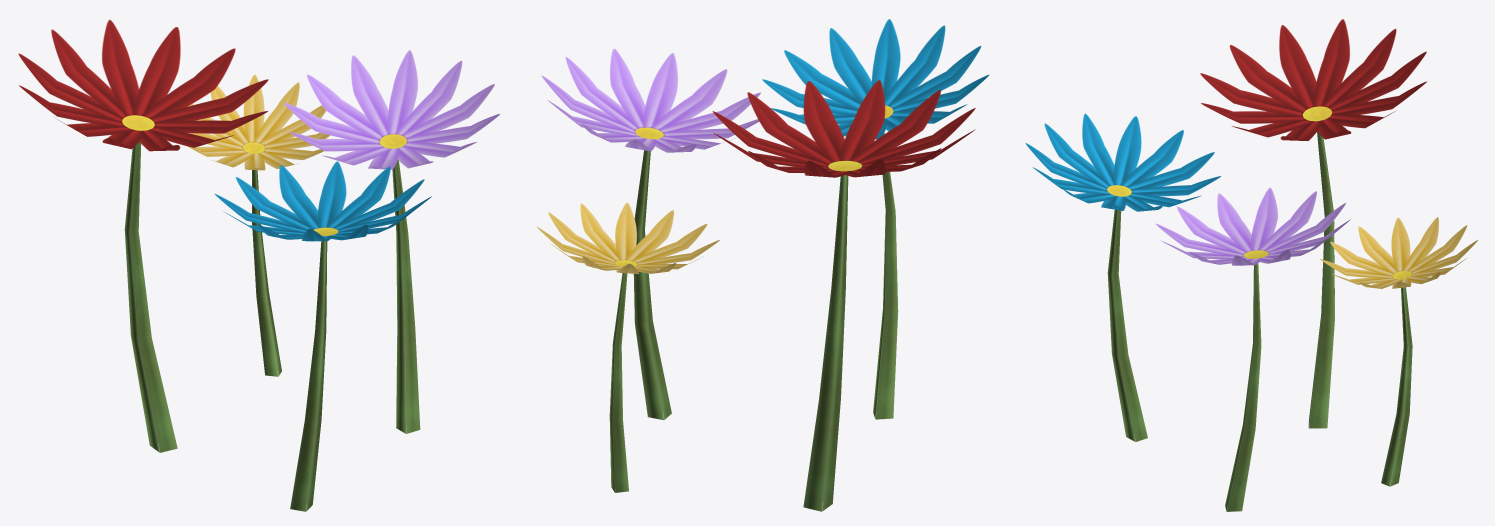
Rendered from flower1.glb.
3 renders of one model, left to right at view 1: azimuth 30°, elevation 25°; view 2: azimuth 150°, elevation 25°; view 3: azimuth 270°, elevation 25°, orthographic. The views are drawn at different scales.
Parts seen in each view (by area): view 1: Plane.000, Plane.002, Plane.003, Plane.004; view 2: Plane.000, Plane.002, Plane.003, Plane.004; view 3: Plane.000, Plane.003, Plane.002, Plane.004.
Part boxes in pixels (x1,y1,x2,y2): Plane.000: [18, 19, 268, 452]; Plane.002: [284, 50, 499, 433]; Plane.003: [214, 161, 431, 511]; Plane.004: [187, 74, 330, 376]; Plane.000: [712, 80, 975, 511]; Plane.002: [541, 48, 760, 420]; Plane.003: [762, 19, 989, 419]; Plane.004: [537, 202, 719, 492]; Plane.000: [1200, 19, 1426, 428]; Plane.003: [1025, 113, 1221, 441]; Plane.002: [1155, 187, 1350, 511]; Plane.004: [1320, 217, 1477, 486].
Bounding box in the file's own units: 1187 × 1044 × 1226.
4 materials, 4 textured.
